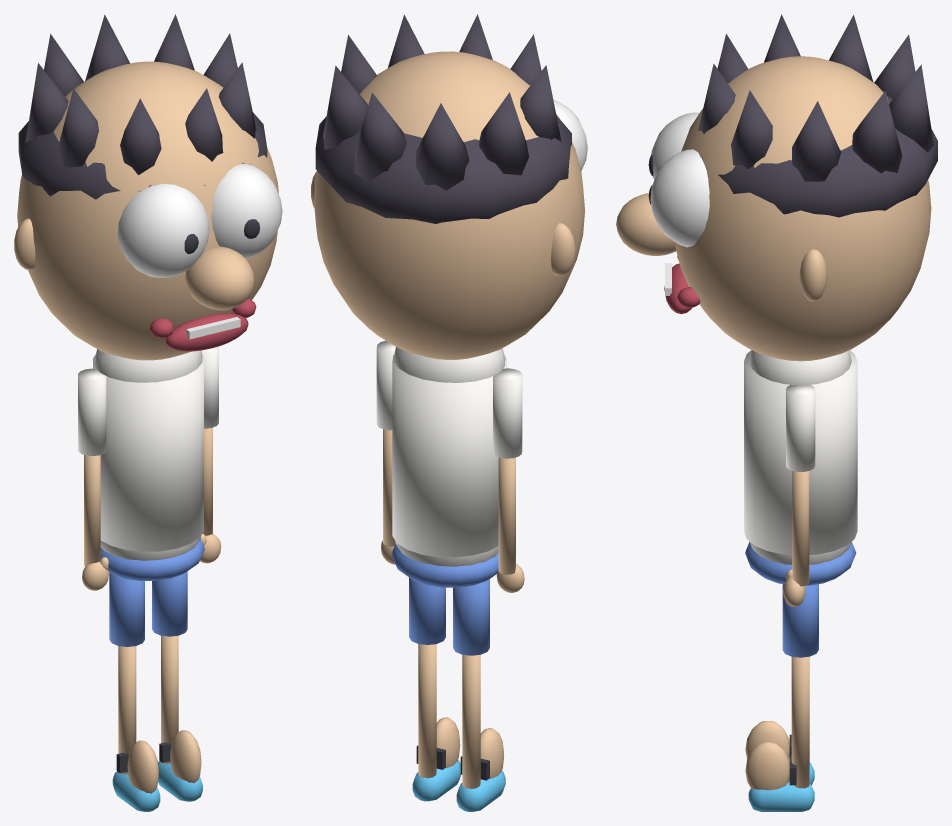
Rendered from Char_Kid.fbx.
The picture shows the model from 3 angles, left to right: view 1: azimuth 30°, elevation 25°; view 2: azimuth 150°, elevation 25°; view 3: azimuth 270°, elevation 25°; orthographic projection. The views are drawn at different scales.
Parts seen in each view (by area): view 1: Head, Torso, LegR, LegL, ArmR, ArmL; view 2: Head, Torso, LegR, LegL, ArmR, ArmL; view 3: Head, Torso, LegL, ArmL, LegR.
Part boxes in pixels (x1,y1,x2,y2): Head: [14, 14, 282, 360]; Torso: [93, 349, 204, 580]; LegR: [109, 572, 160, 811]; LegL: [152, 571, 202, 801]; ArmR: [78, 368, 108, 590]; ArmL: [200, 346, 221, 563]; Head: [311, 14, 587, 359]; Torso: [391, 347, 506, 587]; LegR: [453, 579, 505, 811]; LegL: [409, 577, 460, 801]; ArmR: [493, 368, 524, 592]; ArmL: [376, 340, 395, 564]; Head: [616, 14, 937, 361]; Torso: [744, 350, 857, 585]; LegL: [745, 584, 818, 811]; ArmL: [783, 384, 815, 606]; LegR: [745, 721, 814, 785].
Bounding box in the file's own units: 0.4703 × 1.3 × 0.5099.
